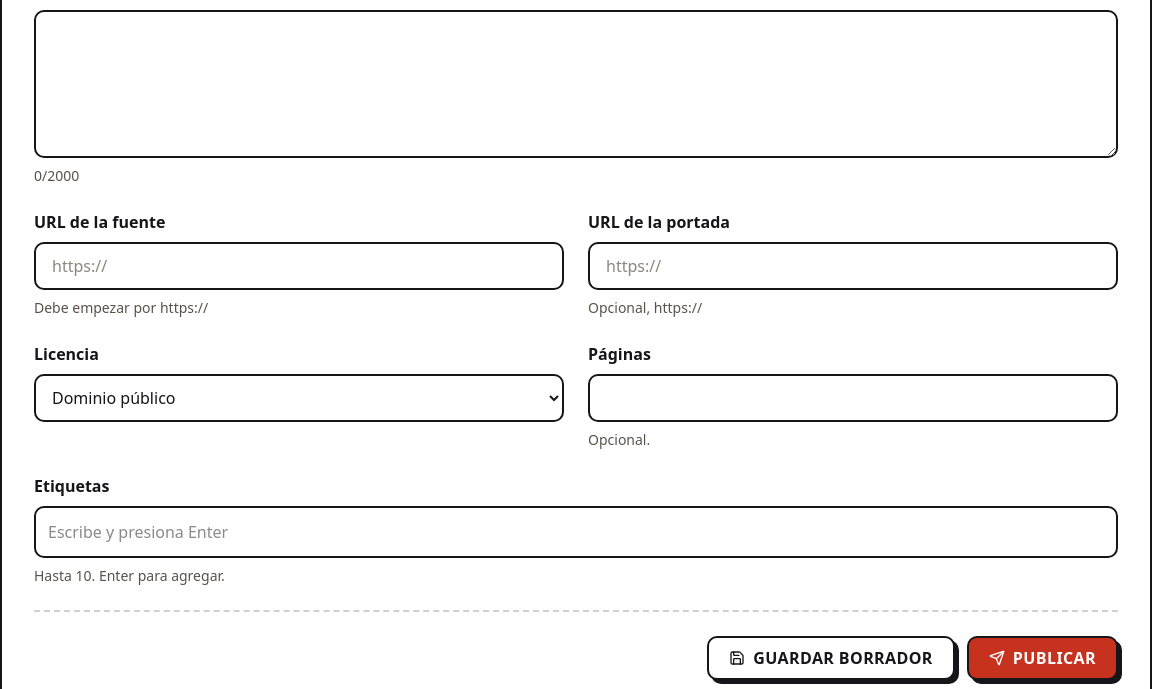
Test: WorkForm › no envia si faltan datos obligatorios
(page scrolled)
Click the button "Guardar borrador".
click(831, 658)  # box [707,636,955,680]
(page scrolled)
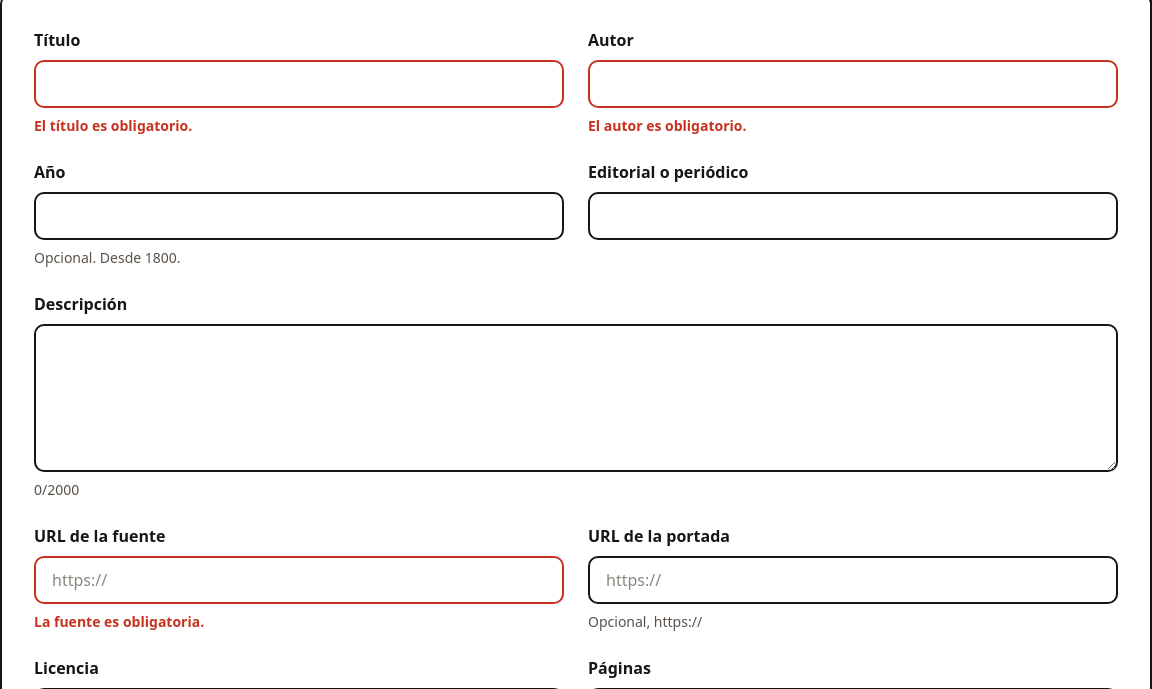
expect the text "El título es obligatorio." is shown: met, box [34,116,192,135]
